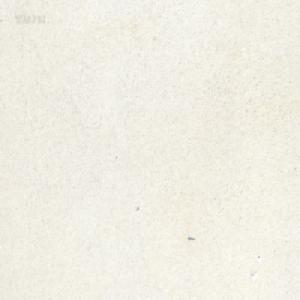Nail: (188, 235, 195, 240)
